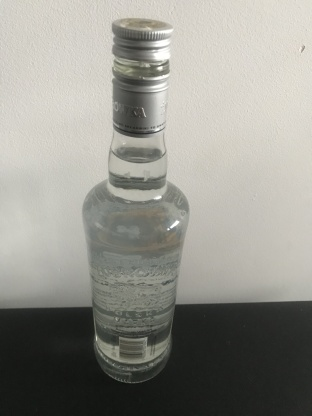nakretka: (110, 16, 174, 138)
